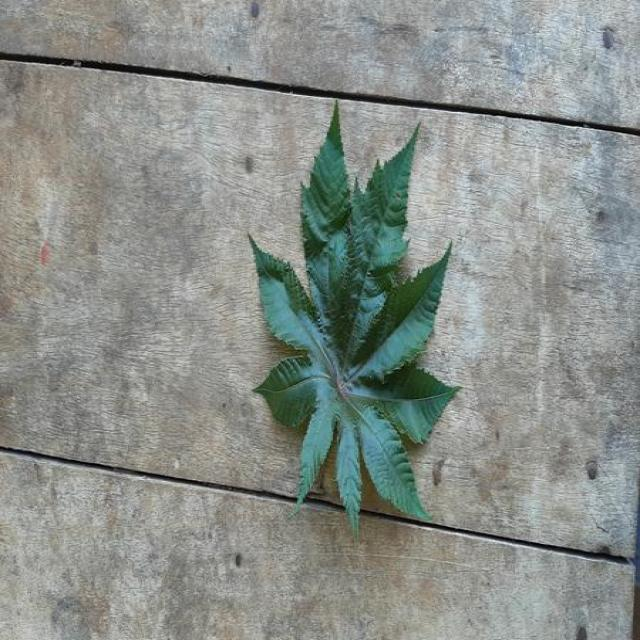castor: (250, 105, 458, 533)
